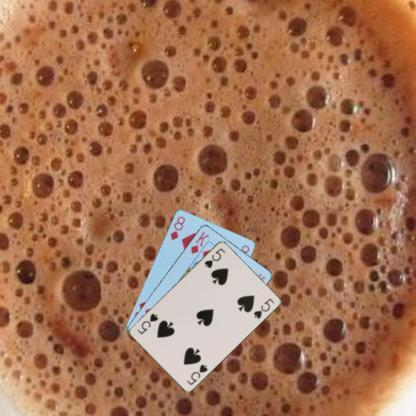5s: (201, 245, 226, 270), (184, 362, 209, 386)
8d: (168, 213, 186, 242)
Kd: (188, 228, 210, 255)
